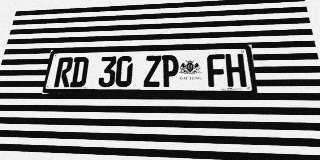0: (115, 56, 133, 87)
3: (98, 56, 117, 87)
D: (69, 57, 89, 87)
F: (207, 54, 227, 87)
H: (225, 54, 247, 87)
P: (161, 55, 179, 87)
R: (54, 57, 74, 87)
Z: (143, 55, 161, 87)
